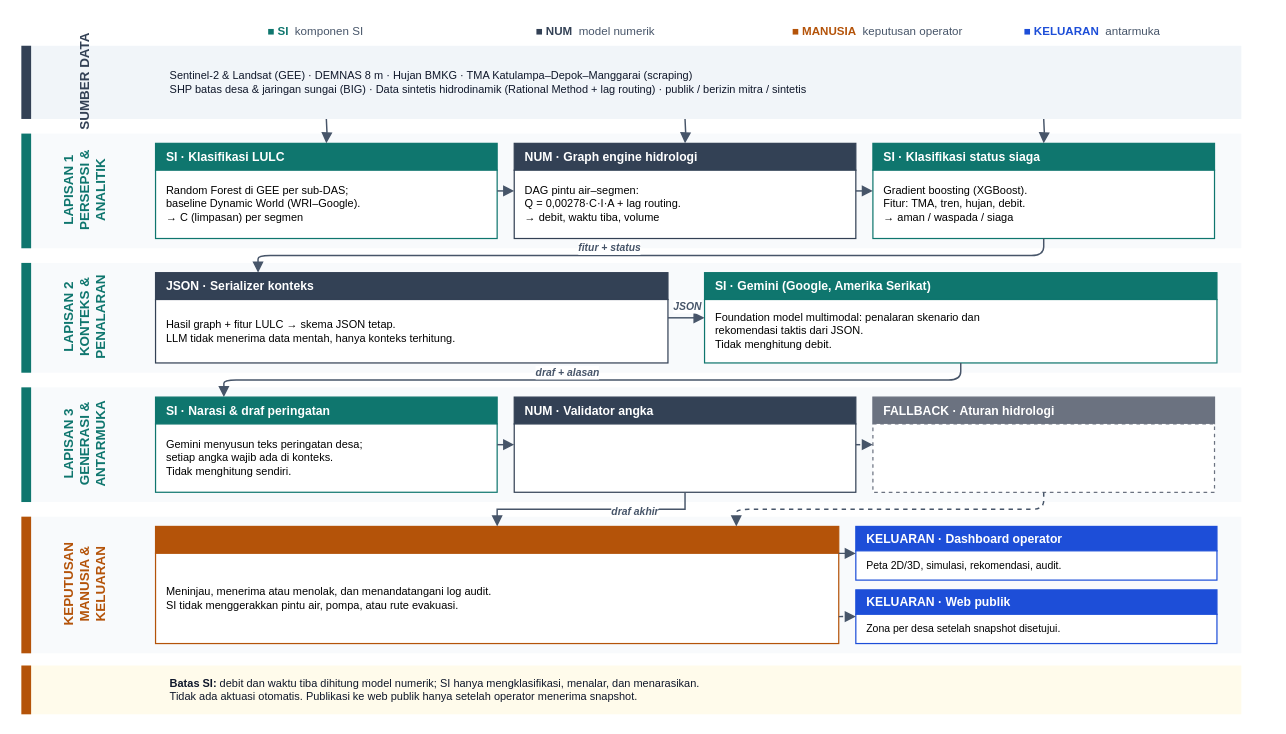
The diagram is 1286 pixels wide and 734 high, and some of its shapes have lost their labels. The shapes that lost their labels are listed below. From the top down, each one's centre as x and y in pixels, then its label:
pixel 684 457: Cocokkan angka narasi dengan simulasi; confidence < 85% ditandai.
pixel 1043 457: LLM gagal atau > 5 detik: template rule-based, tanpa LLM.
pixel 496 539: MANUSIA · Operator BPBD / DSDA
